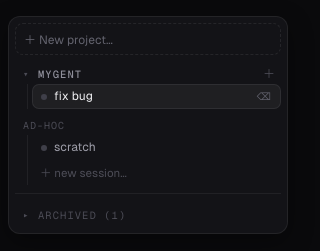
ProjectsMenu › persists collapsed sections across remounts
Expected: the text "fix bug" is shown, 54,89 -> 93,104
Click the button "▾ mygent" at (136, 72), box 15,59 -> 257,84
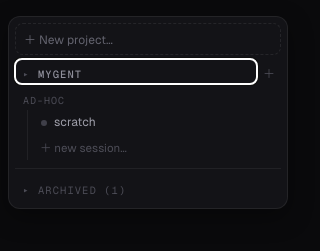
Result: the button "fix bug" is gone
